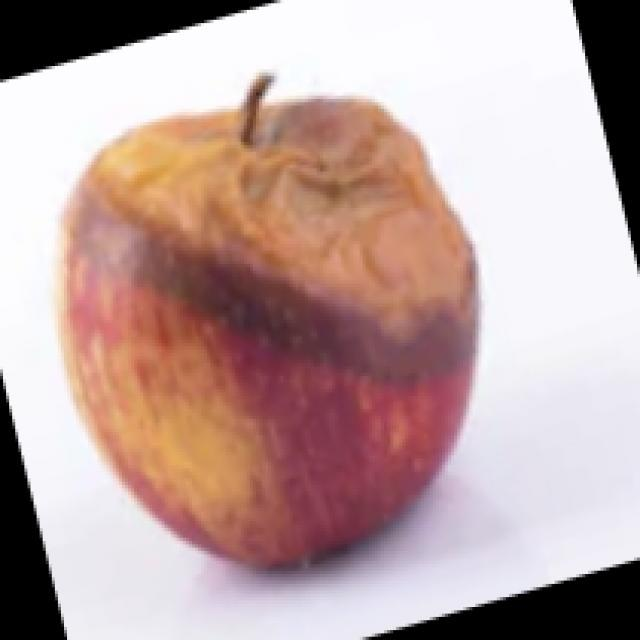Rotten: (82, 96, 478, 552)
